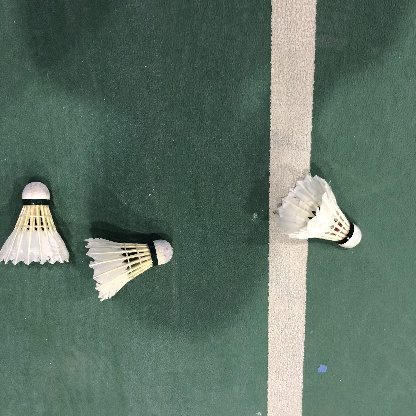ball_single: (277, 175, 362, 248), (0, 182, 70, 265), (84, 237, 173, 302)
